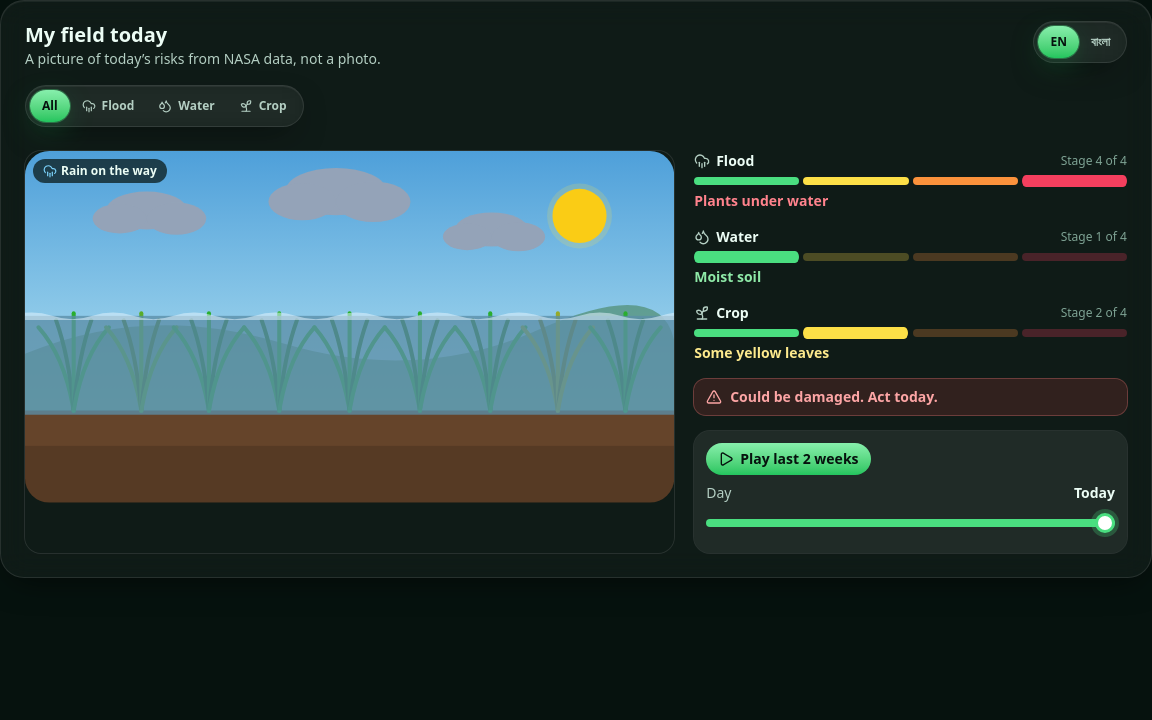
Test case: FieldView › focuses on one risk at a time
The image size is (1152, 720).
Click the radio button labelled "Water".
click(186, 106)  # box [146,90,227,122]
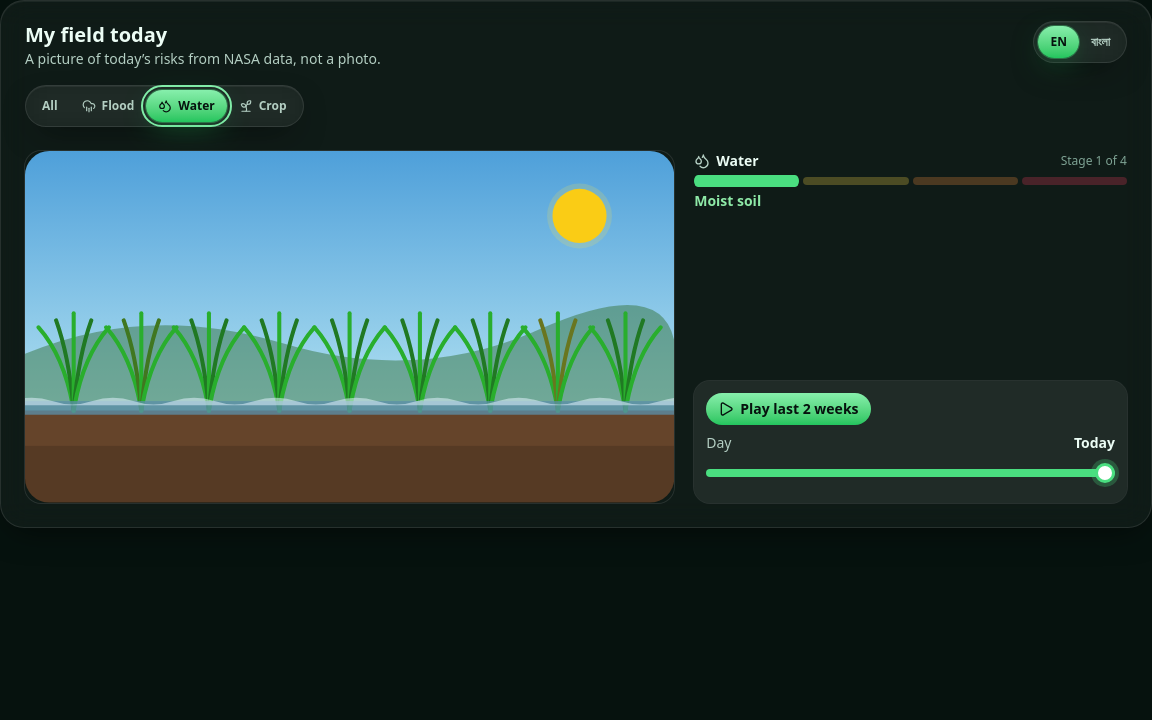
Check: the message "Could be damaged. Act today." is gone
